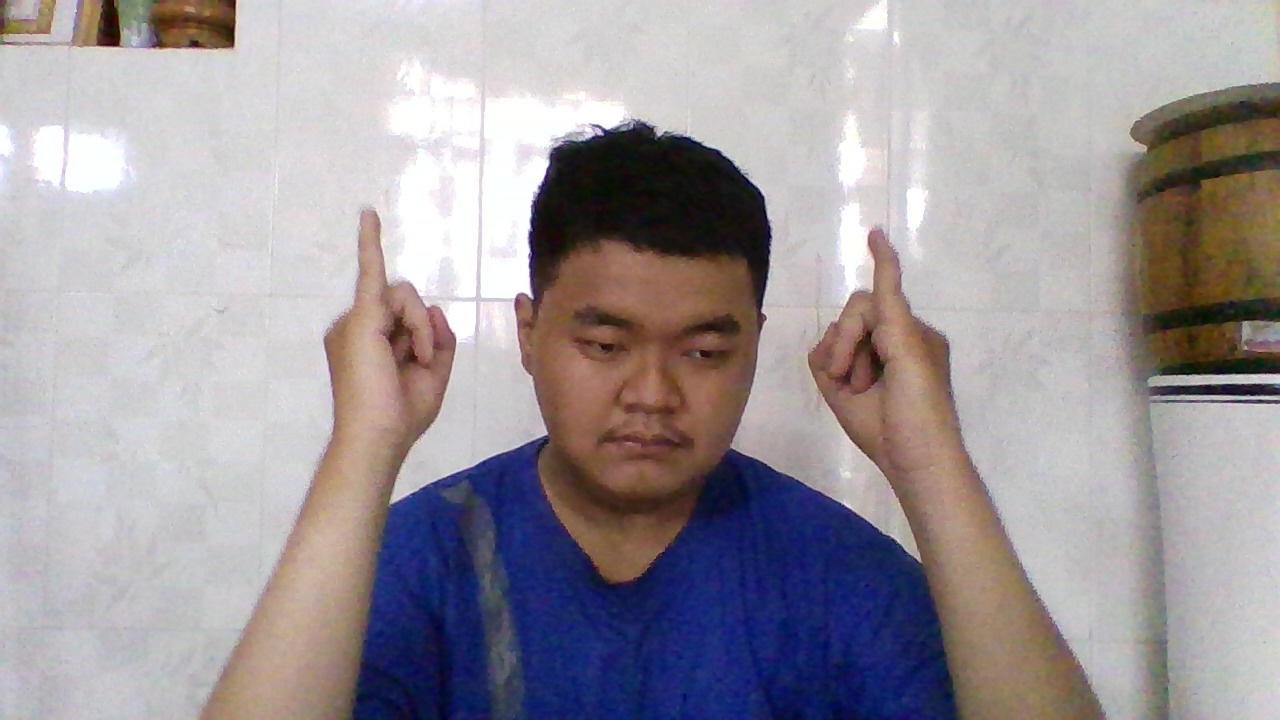I: (803, 220, 935, 473), (339, 201, 465, 452)
